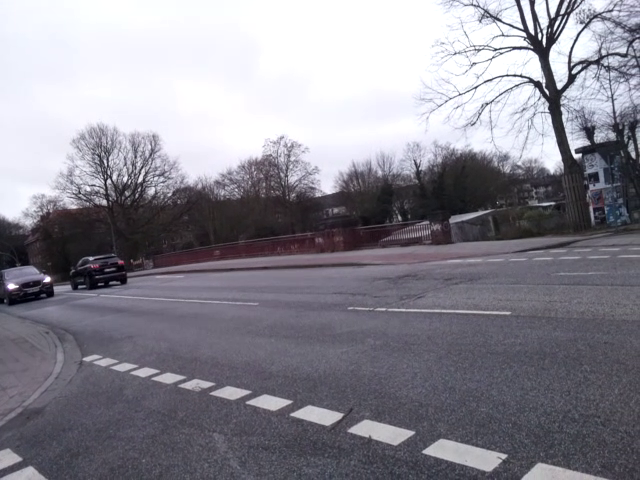car: (68, 246, 131, 298), (1, 257, 59, 312)
